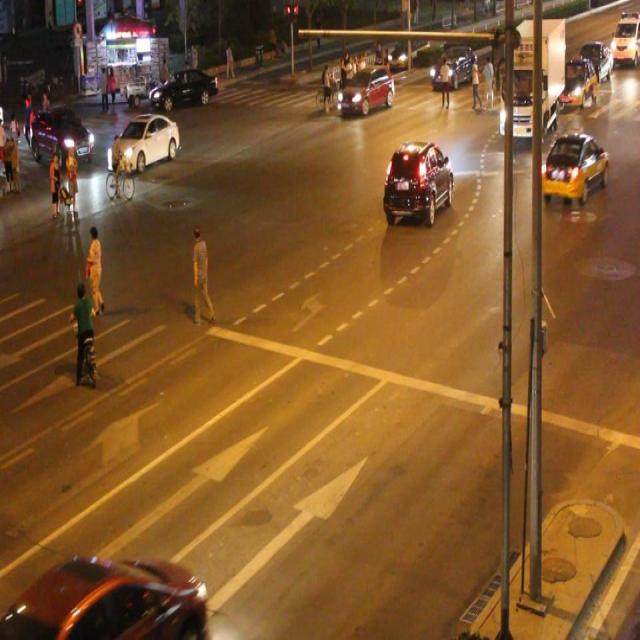bus: (496, 14, 565, 140)
car: (0, 550, 206, 640), (384, 140, 452, 223), (541, 130, 608, 206), (108, 112, 179, 171), (30, 110, 94, 165), (335, 64, 394, 114), (150, 68, 218, 109)
